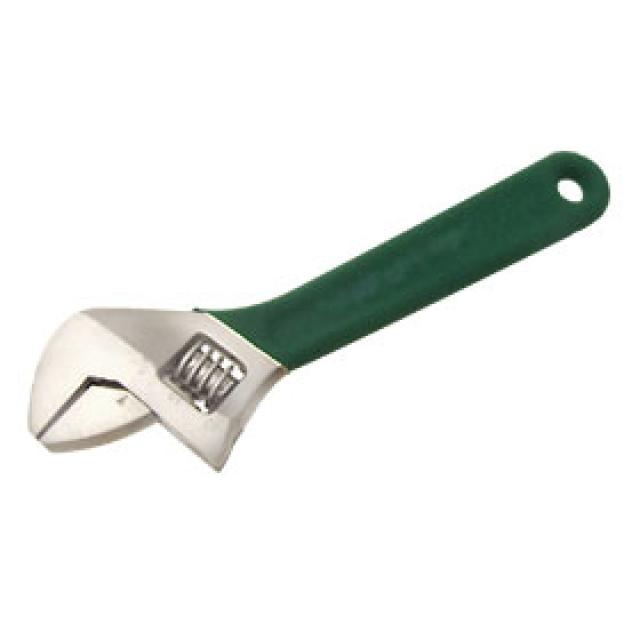wrench: (17, 155, 640, 514)
